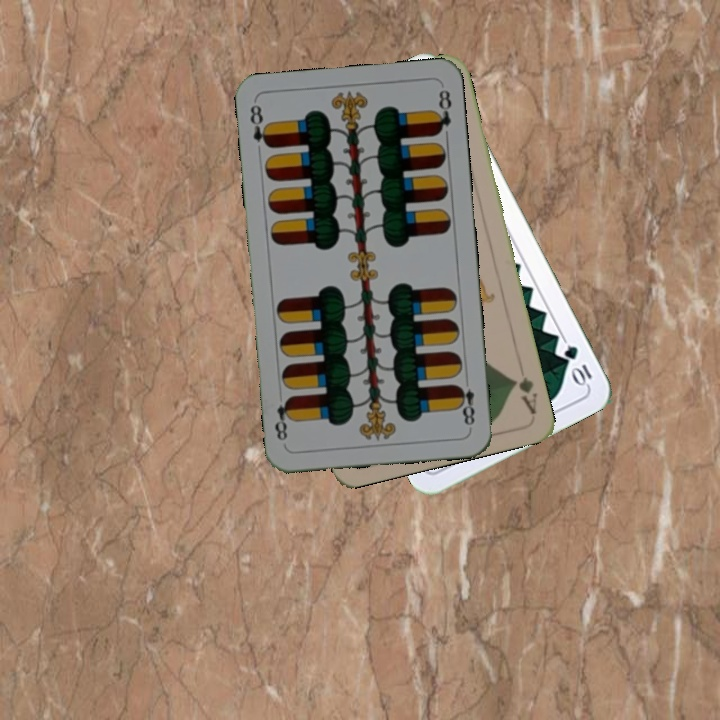E8: (246, 100, 273, 151), (453, 381, 477, 431)
G10: (560, 341, 595, 389)
GA: (508, 372, 540, 417)
